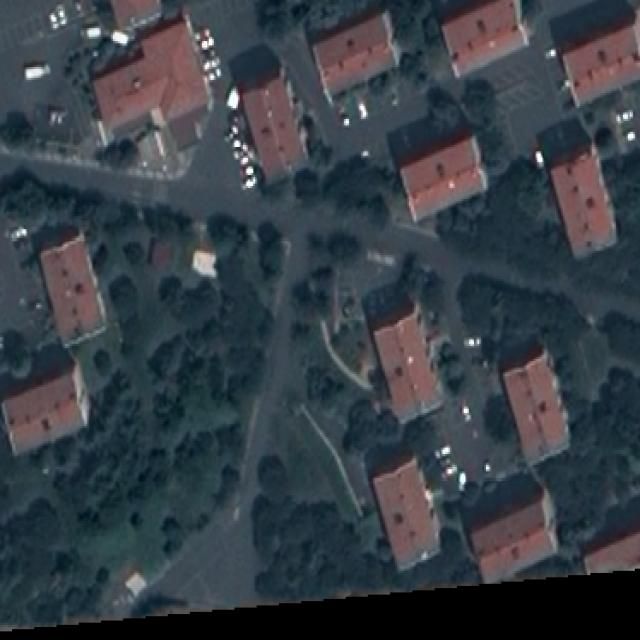Batiment: (95, 17, 210, 148), (387, 109, 487, 220), (537, 117, 616, 257), (363, 284, 441, 421), (229, 44, 304, 181), (550, 0, 640, 105), (33, 224, 105, 345), (500, 336, 569, 462), (3, 365, 87, 454), (373, 458, 440, 569), (434, 0, 529, 77), (470, 499, 557, 582), (314, 13, 395, 94), (583, 496, 640, 573), (111, 0, 161, 29)
